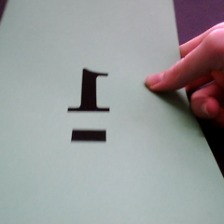green1: (60, 61, 119, 154)
